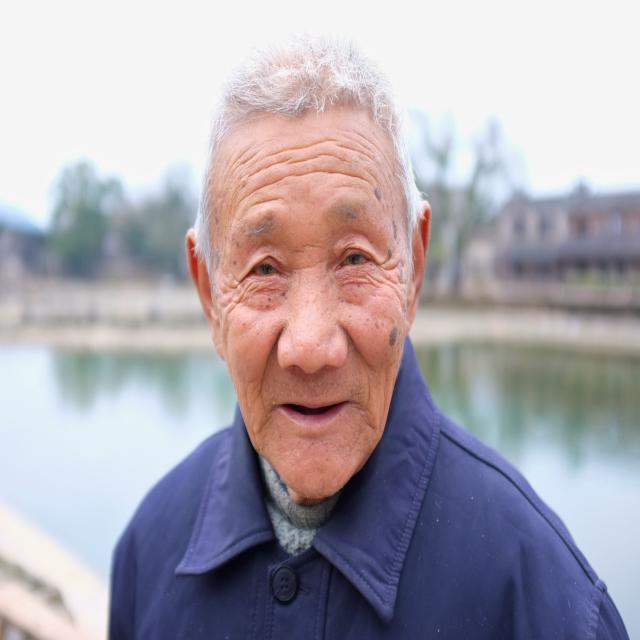front: (206, 201, 423, 476)
